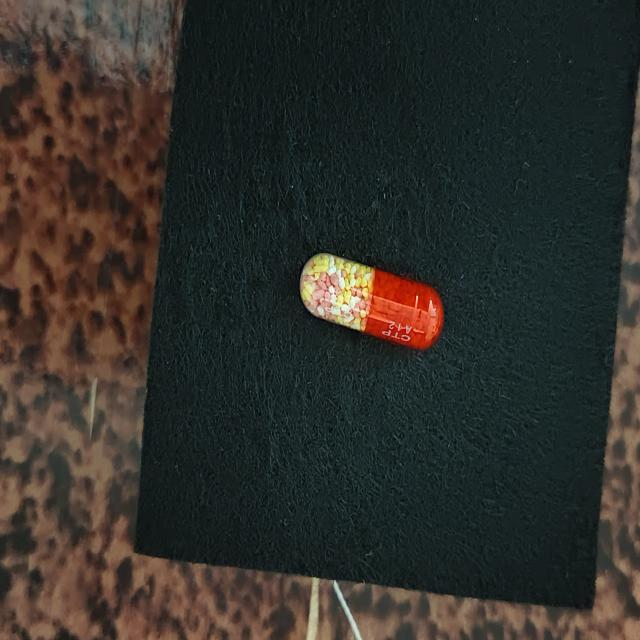Intact Capsule: (300, 253, 443, 350)
